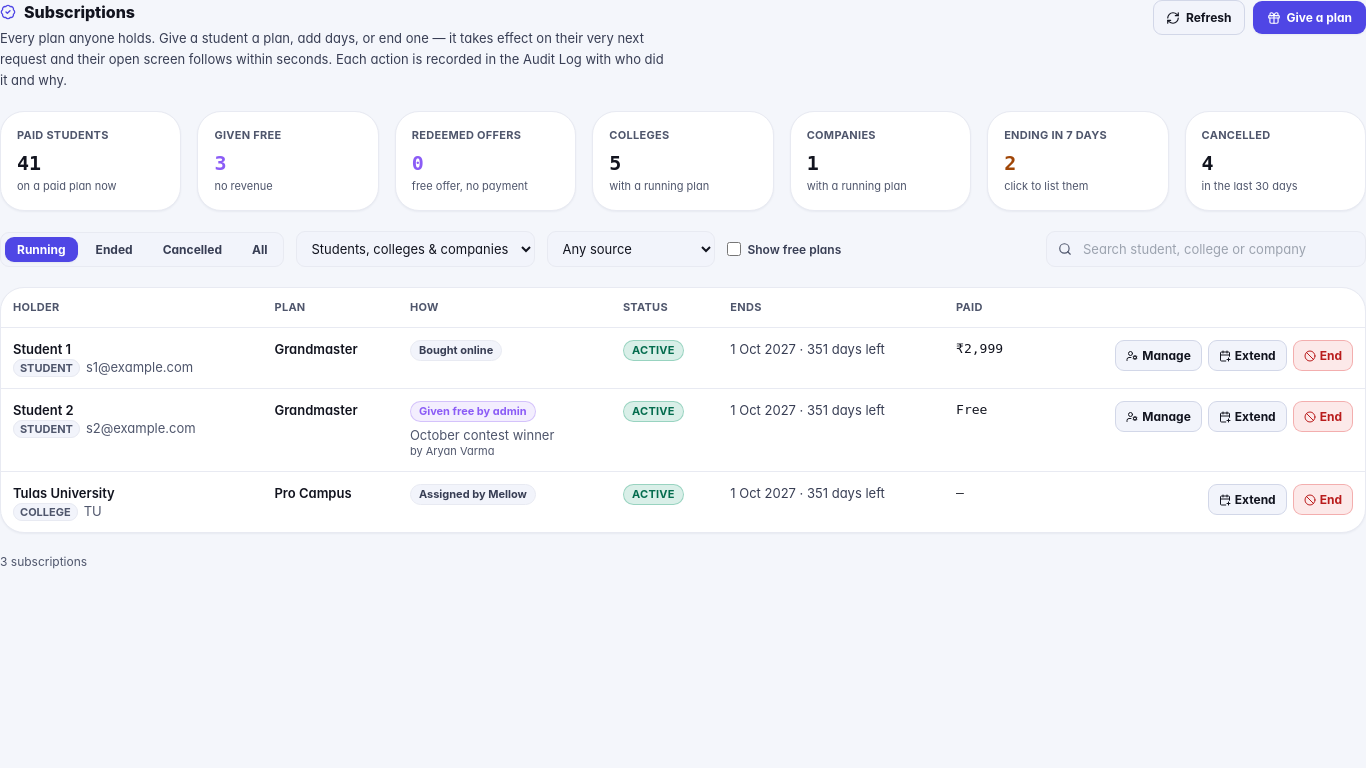
Give a plan › finds a student, defaults to Expert for its full year, and needs a reason before it will go
The width and height of the screenshot is (1366, 768).
Expected: the button "Student 1" is shown, [13,340,71,358]
Click the button "Give a plan".
click(1309, 18)  # box [1252,1,1365,34]
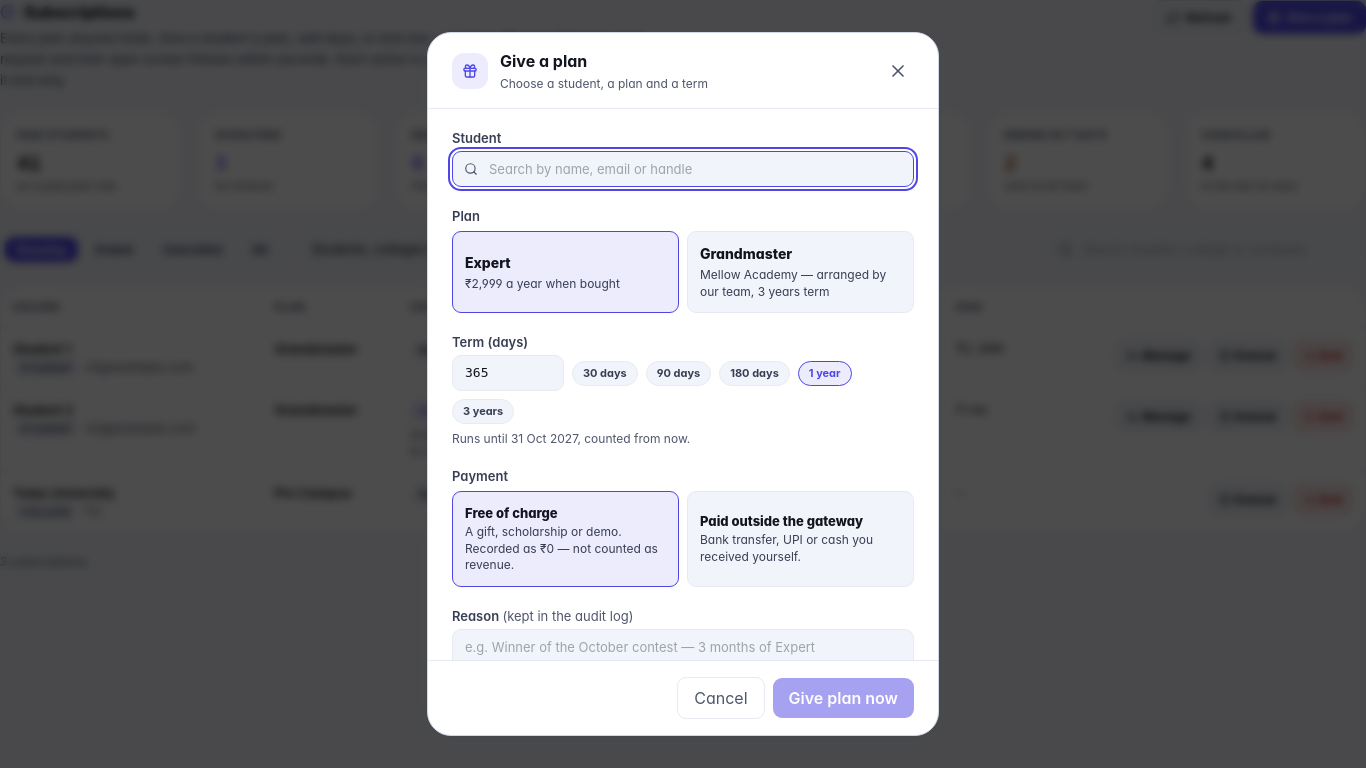
Type "anika" into the field labelled "Student".
click(683, 169); type("anika")  # box [452,151,914,187]
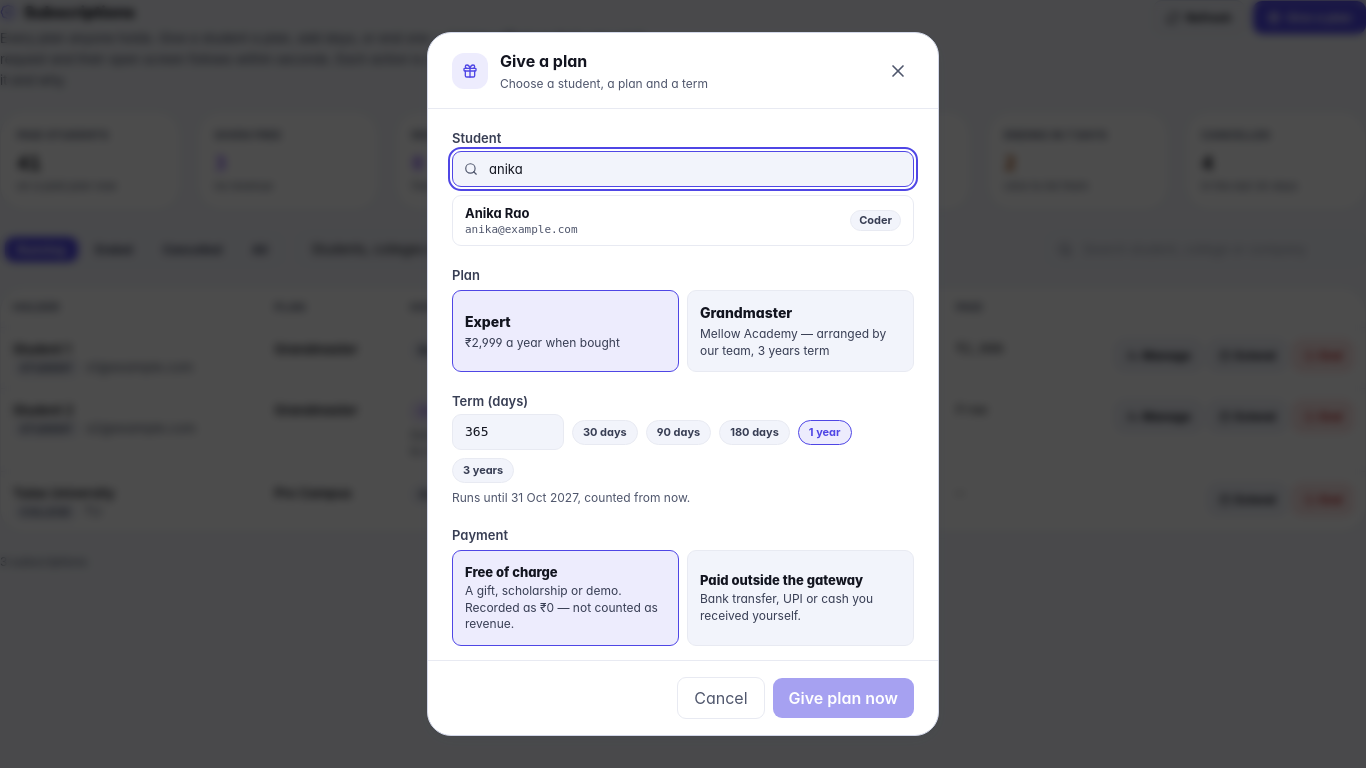
Click the button "Anika Rao anika@example.com Coder".
click(497, 213)  # box [453,196,913,245]
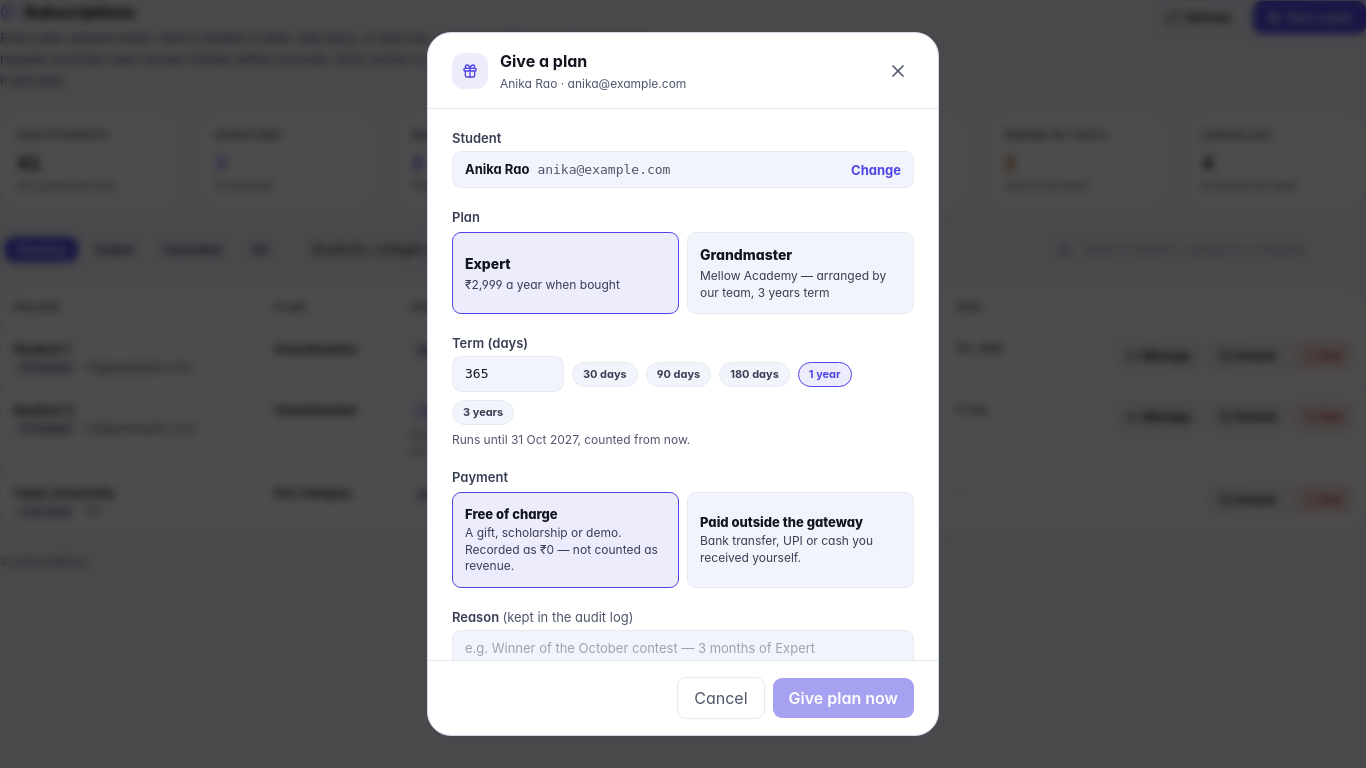
Expected: the button "Give plan now" is disabled, [772,678,914,718]
Expected: the field labelled "Term (days)" holds "365", [452,356,564,392]
Type "Won the October contest" into the text box labelled "Reason (kept in the audit log)".
click(683, 656); type("Won the October contest")  # box [452,630,914,684]
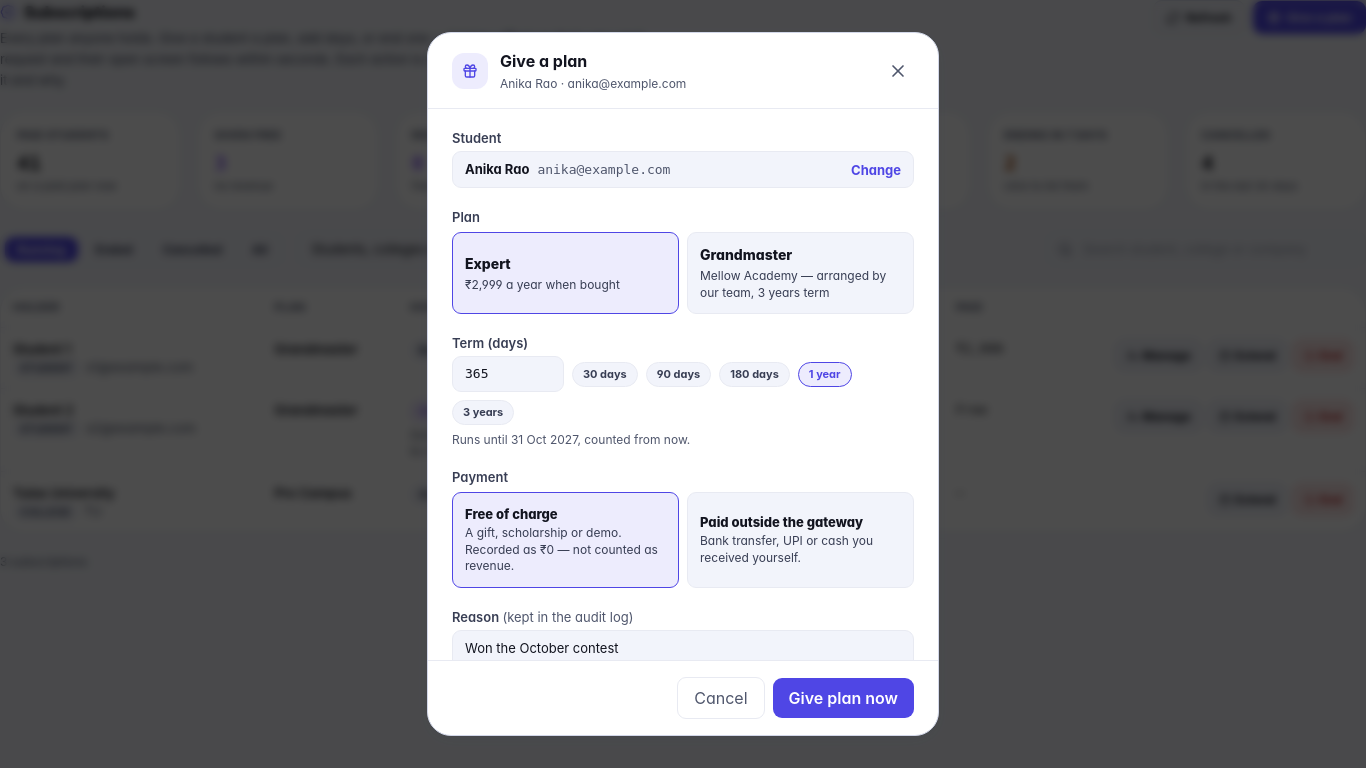
Expected: the button "Give plan now" is enabled, [772,678,914,718]
